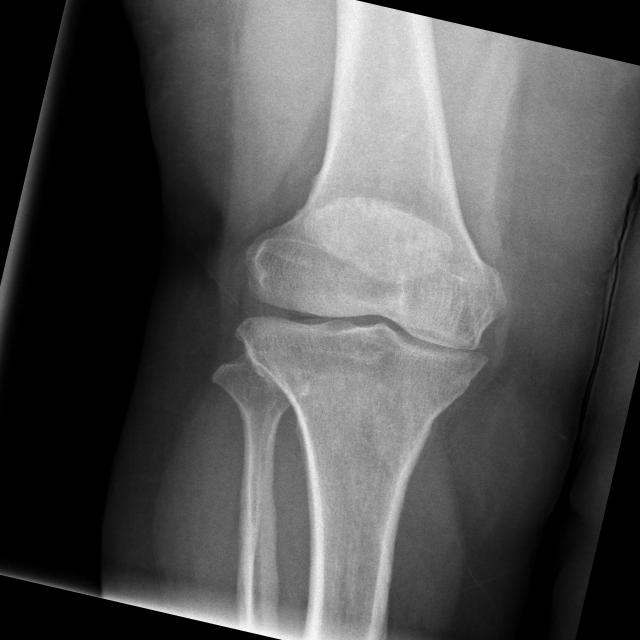Knee: (209, 188, 524, 444)
